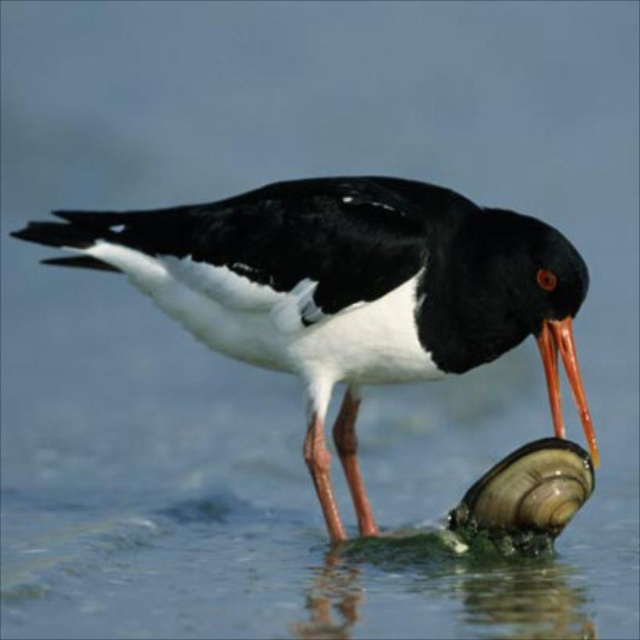Snail: (444, 437, 596, 556)
